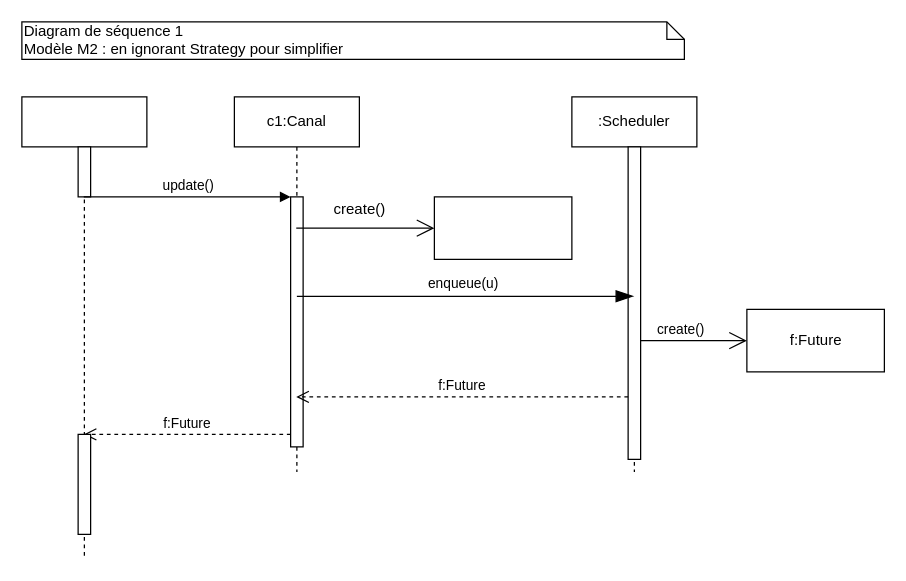
Some shapes in this 906 by 581 pixel diagram are drawn without their labels. Each missing label, with the box of its shape:
:Capteur: (21, 96, 147, 559)
u:Update: (433, 196, 572, 259)
